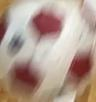Sports-Ball: (3, 13, 91, 91)
